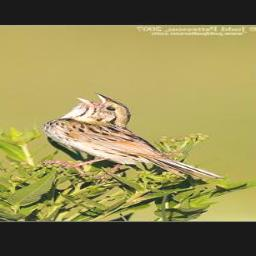Sparrow: (45, 92, 229, 181)
